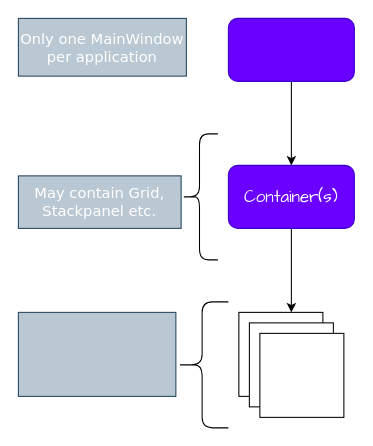
Image size: 373x446. Some labels were removed from this diagram. The shapes that lost their labels are listed below. From the top down, each one's centre as x and y in pixels, then its label:
(x=290, y=49): Window
(x=96, y=353): UI Elements e.g. Button, Texblock etx
